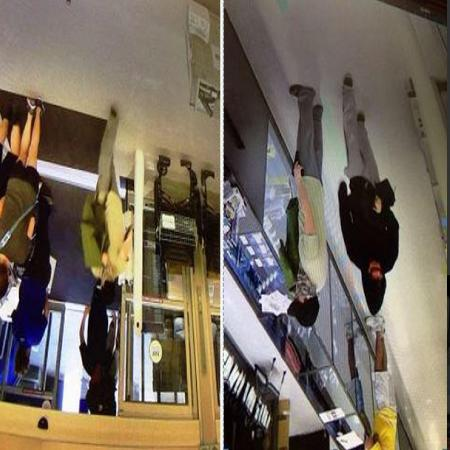Pistol: (294, 154, 306, 181)
